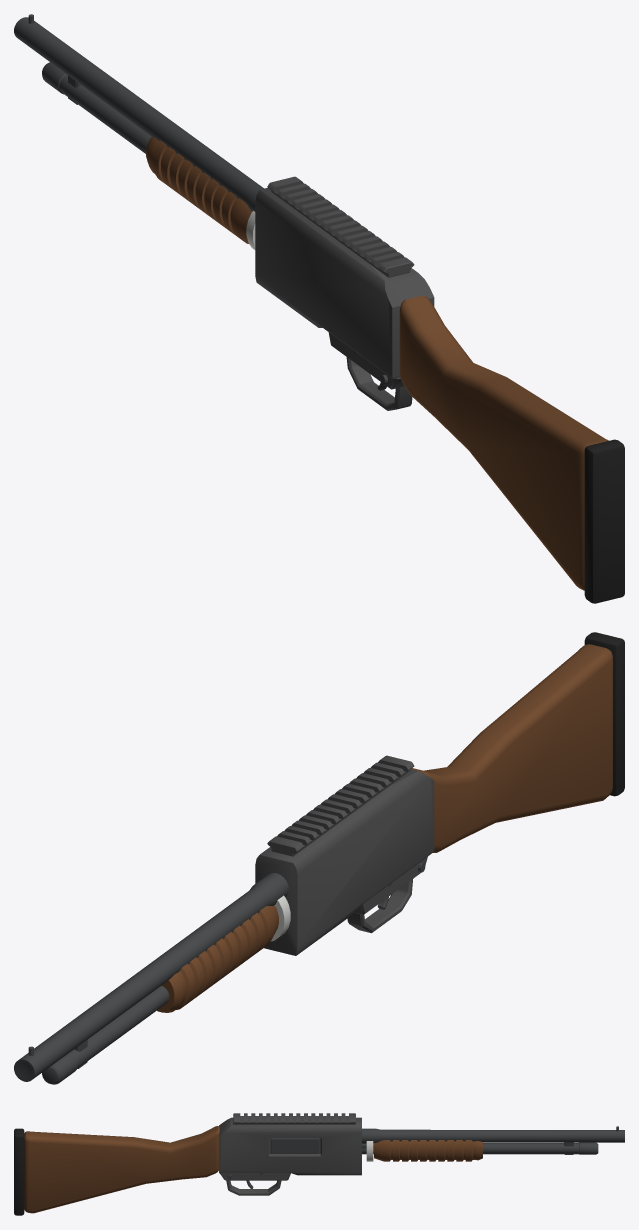
3 views of the same model, one above another, from view 1: azimuth 30°, elevation 25°; view 2: azimuth 150°, elevation 25°; view 3: azimuth 270°, elevation 25° (orthographic). The views are drawn at different scales.
Visible parts, largest first — view 1: Wood, Body, Metal, Furniture, Pump; view 2: Wood, Body, Metal, Pump, Furniture; view 3: Wood, Body, Metal, Pump, Furniture, Tape.
Part boxes in pixels (left/top/right/bottom): Wood: left=399, top=295, right=608, bottom=590; Body: left=255, top=176, right=434, bottom=410; Metal: left=14, top=14, right=387, bottom=390; Furniture: left=584, top=439, right=624, bottom=603; Pump: left=146, top=137, right=251, bottom=243; Wood: left=411, top=644, right=612, bottom=852; Body: left=255, top=755, right=434, bottom=955; Metal: left=14, top=863, right=425, bottom=1084; Pump: left=157, top=905, right=278, bottom=1012; Furniture: left=584, top=632, right=624, bottom=796; Wood: left=24, top=1126, right=219, bottom=1213; Body: left=219, top=1113, right=361, bottom=1195; Metal: left=227, top=1126, right=624, bottom=1188; Pump: left=374, top=1140, right=482, bottom=1161; Furniture: left=14, top=1128, right=24, bottom=1215; Tape: left=366, top=1141, right=373, bottom=1161.
Size of the model in its own units: 0.21 by 0.87 by 5.04.
